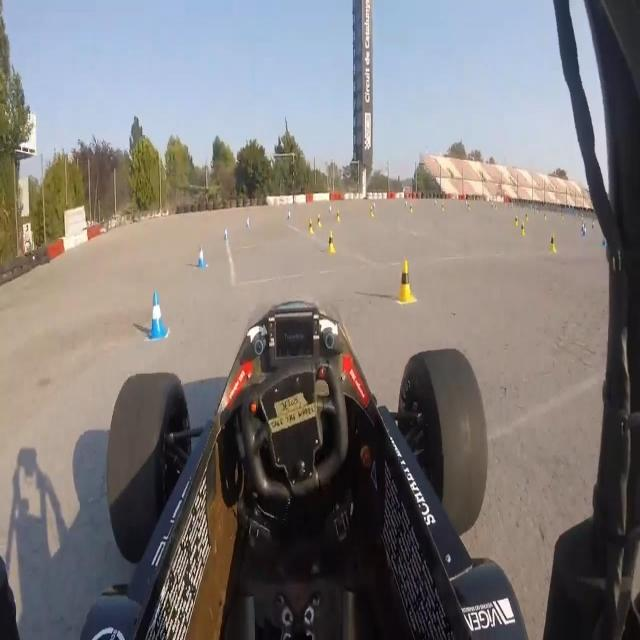blue_cone: (148, 279, 169, 344), (194, 245, 208, 265), (220, 221, 231, 244)
yellow_cone: (398, 252, 415, 305), (326, 225, 340, 258), (306, 215, 316, 236)
